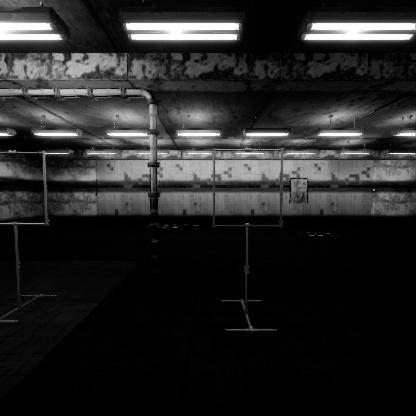gate: (212, 188, 290, 267)
